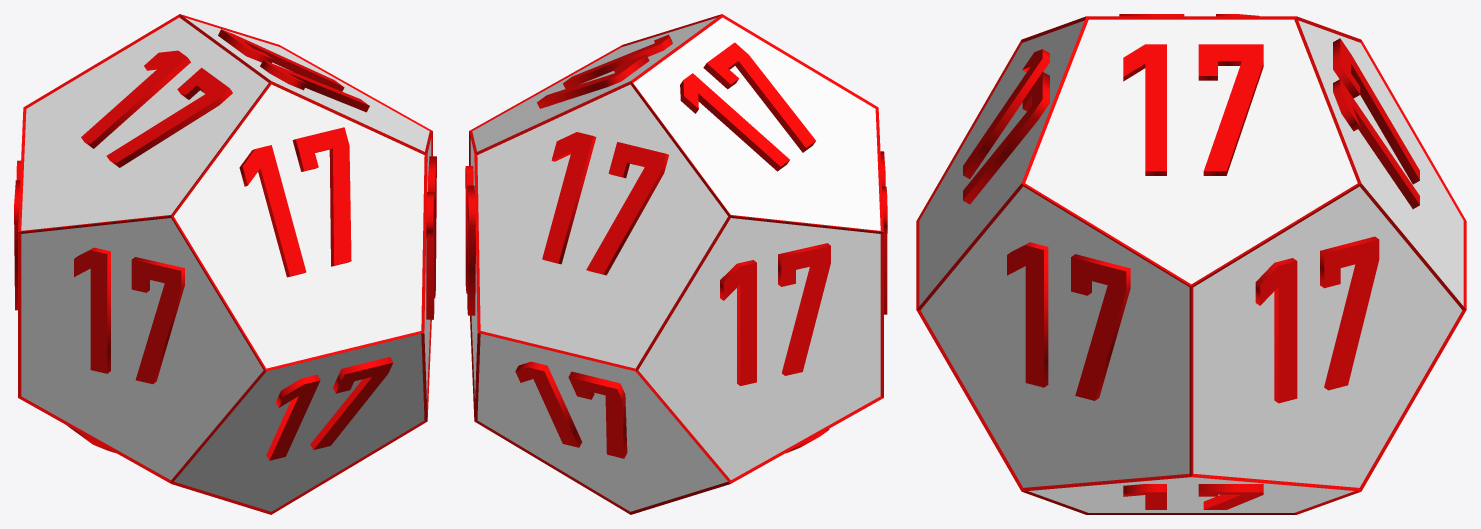
Rendered from dodecahedron_sign-17.glb.
The picture shows the model from 3 angles, left to right: view 1: azimuth 30°, elevation 25°; view 2: azimuth 150°, elevation 25°; view 3: azimuth 270°, elevation 25°; orthographic projection. The views are drawn at different scales.
Visible parts, largest first — view 1: Dodecahedron_Solid, Dodecahedron_Wire, Text20_5, Text20_11, Text20_7, Text20_10, Text20_2, Text20_6, Text20_8; view 2: Dodecahedron_Solid, Dodecahedron_Wire, Text20_0, Text20_8, Text20_7, Text20_3, Text20_2, Text20_1, Text20_11; view 3: Dodecahedron_Solid, Dodecahedron_Wire, Text20_1, Text20_6, Text20_2, Text20_0, Text20_5, Text20_4.
Part boxes in pixels (x1,y1,x2,y2): Dodecahedron_Solid: (21, 17, 431, 511); Dodecahedron_Wire: (18, 14, 432, 514); Text20_5: (239, 127, 351, 277); Text20_11: (74, 247, 184, 383); Text20_7: (81, 50, 232, 167); Text20_10: (266, 357, 393, 460); Text20_2: (218, 29, 369, 112); Text20_6: (426, 156, 436, 319); Text20_8: (14, 160, 20, 310); Dodecahedron_Solid: (470, 17, 880, 511); Dodecahedron_Wire: (469, 14, 883, 514); Text20_0: (542, 132, 668, 275); Text20_8: (720, 243, 830, 385); Text20_7: (680, 42, 815, 171); Text20_3: (515, 361, 627, 458); Text20_2: (537, 34, 672, 108); Text20_1: (465, 166, 475, 315); Text20_11: (880, 151, 887, 314); Dodecahedron_Solid: (919, 19, 1463, 512); Dodecahedron_Wire: (916, 16, 1466, 514); Text20_1: (1255, 236, 1379, 403); Text20_6: (1007, 242, 1130, 400); Text20_2: (1123, 44, 1263, 175); Text20_0: (1333, 38, 1419, 208); Text20_5: (963, 49, 1049, 204); Text20_4: (1123, 484, 1263, 509).
Size of the model in its own units: 3.26 by 3.26 by 3.26.
